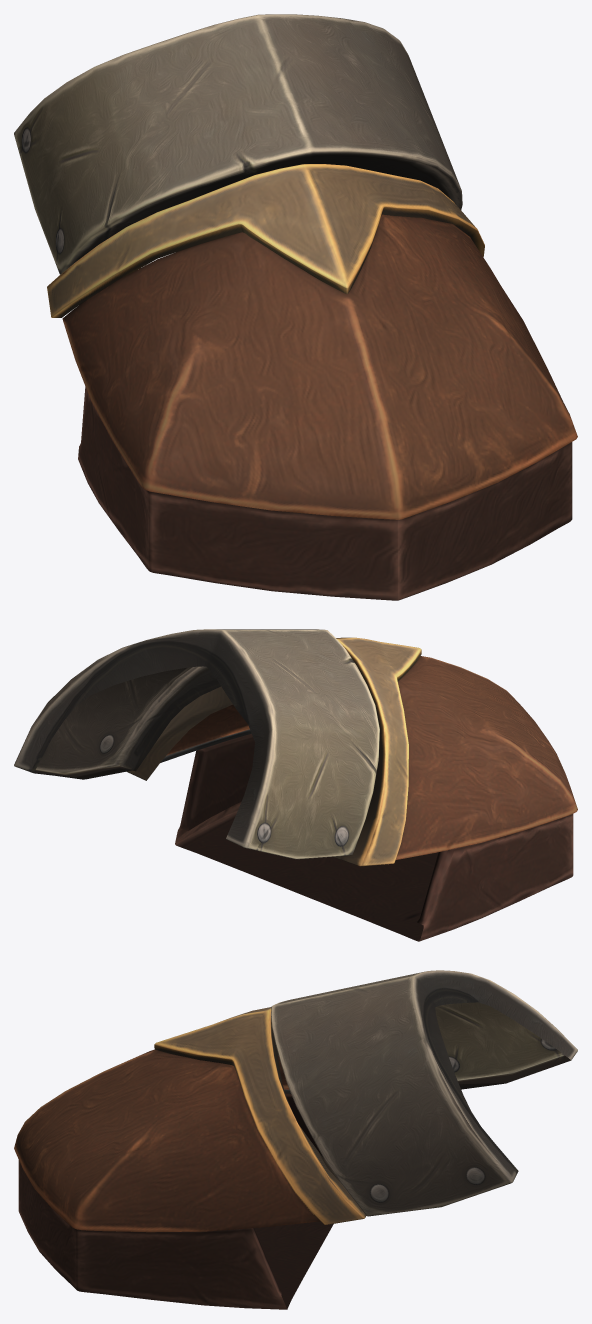
The model's file is sm_armor_dhodin_human_foot_front.gltf.
3 renders of one model, top to bottom at view 1: azimuth 30°, elevation 25°; view 2: azimuth 150°, elevation 25°; view 3: azimuth 270°, elevation 25°, orthographic. The views are drawn at different scales.
Parts seen in each view (by area): view 1: sm_armor_dhodin_human_foot_front; view 2: sm_armor_dhodin_human_foot_front; view 3: sm_armor_dhodin_human_foot_front.
Part boxes in pixels (x1,y1,x2,y2): sm_armor_dhodin_human_foot_front: [14, 14, 577, 600]; sm_armor_dhodin_human_foot_front: [14, 629, 577, 941]; sm_armor_dhodin_human_foot_front: [14, 970, 577, 1309].
Bounding box in the file's own units: 0.1835 × 0.1343 × 0.2442.
Materials: 1 (1 with a texture image).
